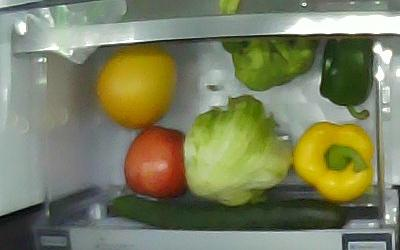apple: (123, 125, 189, 201)
broccoli: (223, 37, 320, 91)
cucumber: (107, 195, 348, 230)
grapefruit: (96, 46, 177, 131)
lettuce: (184, 95, 293, 206)
paprika: (293, 122, 374, 202), (319, 38, 373, 118)
